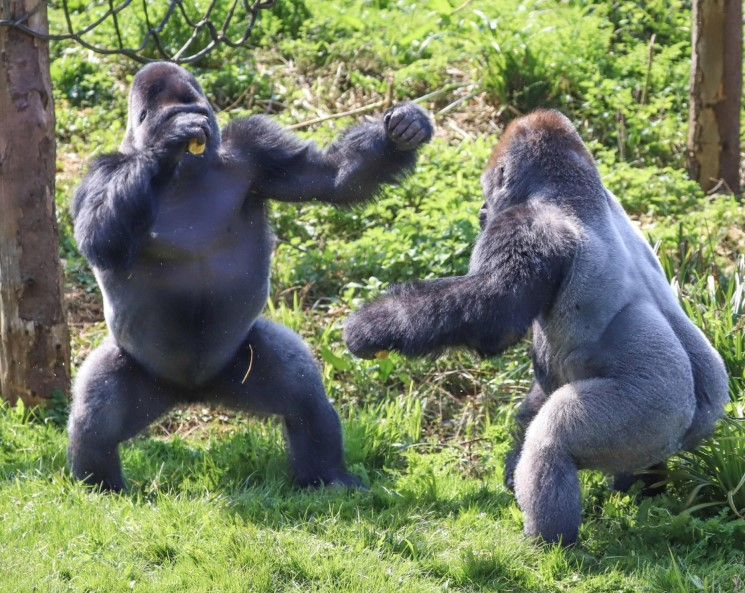Gorilla: (441, 107, 728, 525), (66, 70, 341, 484)
